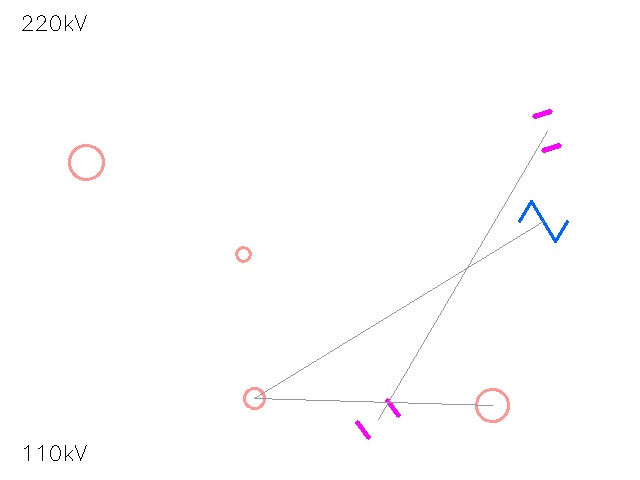capacitor: (347, 388, 409, 450), (518, 102, 576, 160)
circuit_breaker: (520, 198, 566, 244)
fuse: (460, 373, 524, 437)
surge_arrester: (228, 239, 258, 269)
voltage_transformer: (52, 128, 120, 196), (233, 377, 275, 419)
